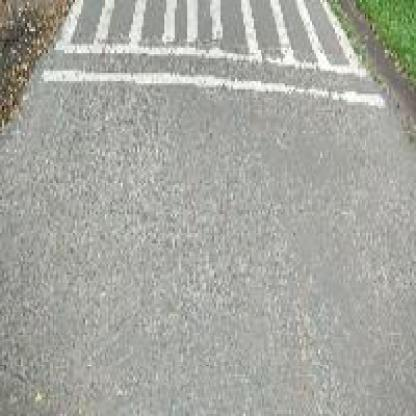Speed Bump: (42, 0, 389, 106)
